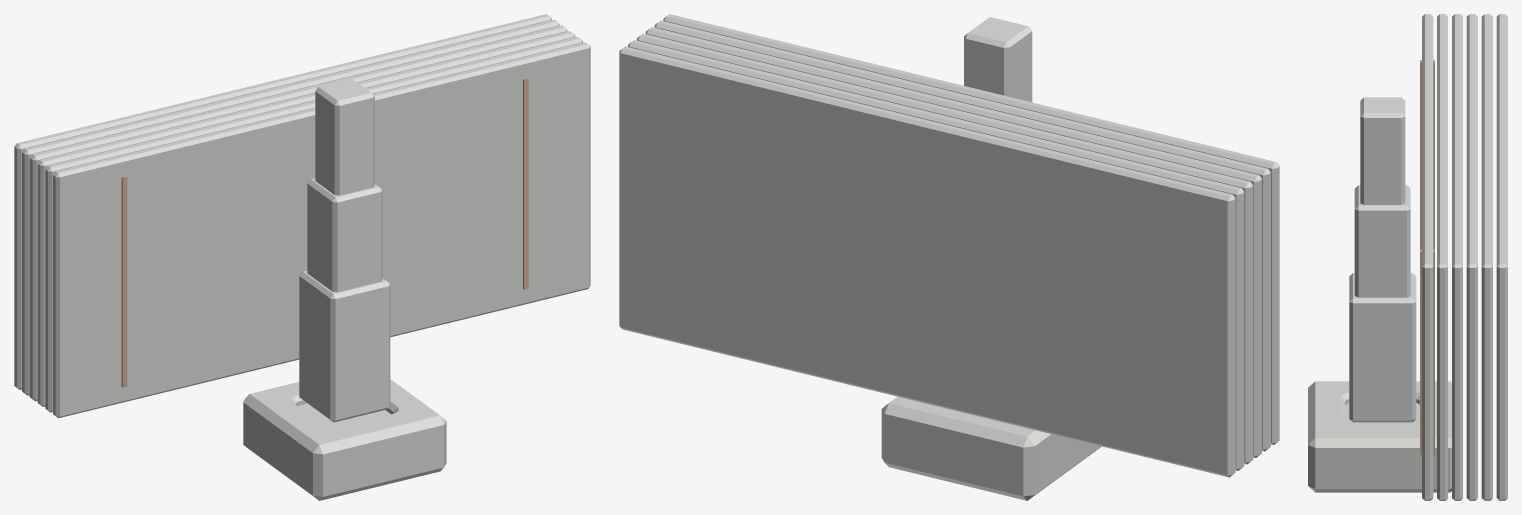
Rendered from ax_power_09_heat_pipe_boom_l.glb.
3 views of the same model, side by side, from view 1: azimuth 30°, elevation 25°; view 2: azimuth 150°, elevation 25°; view 3: azimuth 270°, elevation 25° (orthographic). The views are drawn at different scales.
Parts seen in each view (by area): view 1: panel_1, boom, mount_block, panel_4, panel_5, panel_6, panel_3, panel_2, heat_pipes; view 2: panel_6, mount_block, panel_4, panel_5, panel_3, panel_2, panel_1, boom; view 3: boom, mount_block, panel_1, panel_4, panel_5, panel_6, panel_2, panel_3, heat_pipes.
Part boxes in pixels (x1,y1,x2,y2): panel_1: (53,42,590,418); boom: (299,78,390,422); mount_block: (243,379,446,500); panel_4: (29,25,567,401); panel_5: (22,19,559,395); panel_6: (14,14,551,389); panel_3: (37,31,575,406); panel_2: (45,36,582,412); heat_pipes: (121,78,528,387); panel_6: (619,46,1235,477); mount_block: (881,396,1101,500); panel_4: (637,33,1253,464); panel_5: (628,40,1244,470); panel_3: (645,27,1261,457); panel_2: (654,20,1270,451); panel_1: (663,14,1279,444); boom: (964,17,1032,102); boom: (1349,97,1416,422); mount_block: (1308,381,1451,492); panel_1: (1422,14,1433,500); panel_4: (1466,14,1477,500); panel_5: (1481,14,1492,500); panel_6: (1496,14,1507,500); panel_2: (1437,14,1447,500); panel_3: (1452,14,1462,500); heat_pipes: (1420,60,1434,454).
Size of the model in its own units: 1.6 by 1.06 by 0.535.
